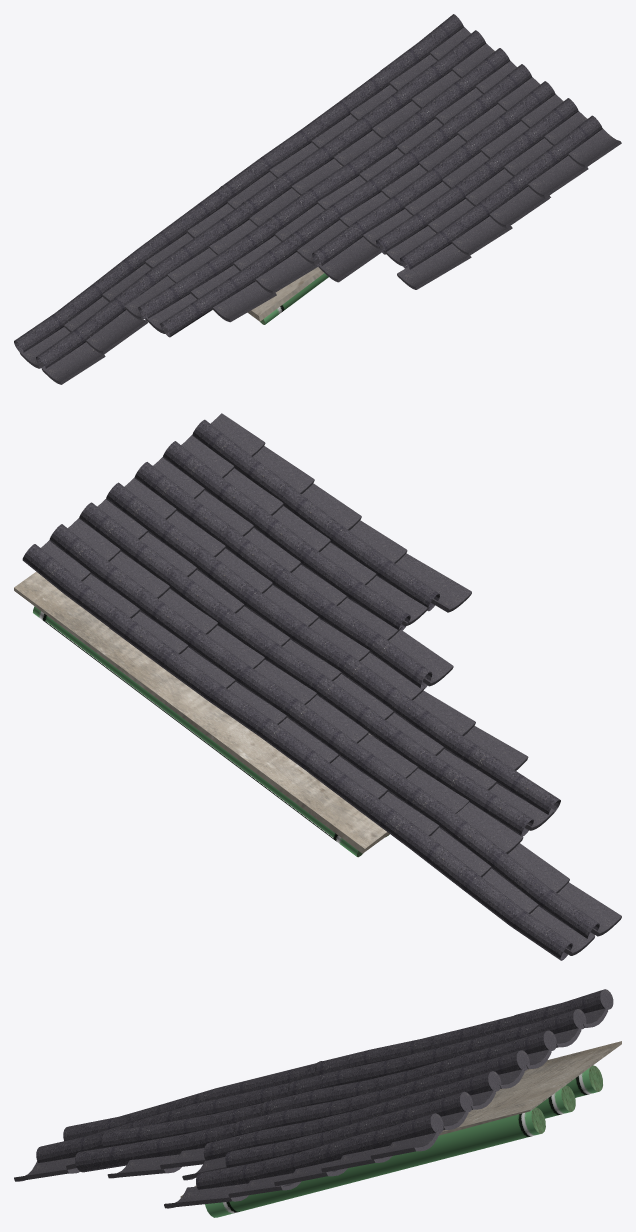
The model's file is SM_R_RoofCornerCut_7.fbx.
3 views of the same model, one above another, from view 1: azimuth 30°, elevation 25°; view 2: azimuth 150°, elevation 25°; view 3: azimuth 330°, elevation 25° (orthographic). The views are drawn at different scales.
Visible parts, largest first — view 1: SM_R_RoofCornerCut_7; view 2: SM_R_RoofCornerCut_7; view 3: SM_R_RoofCornerCut_7.
Part boxes in pixels (x1,y1,x2,y2): SM_R_RoofCornerCut_7: (14, 14, 621, 384); SM_R_RoofCornerCut_7: (14, 413, 621, 960); SM_R_RoofCornerCut_7: (14, 989, 621, 1217).
Size of the model in its own units: 460 by 288 by 228.
4 materials, 4 textured.
